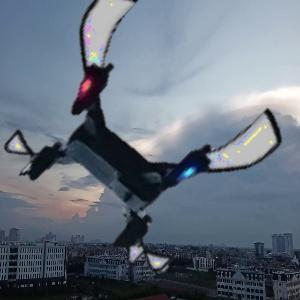drone: (16, 9, 258, 251)
